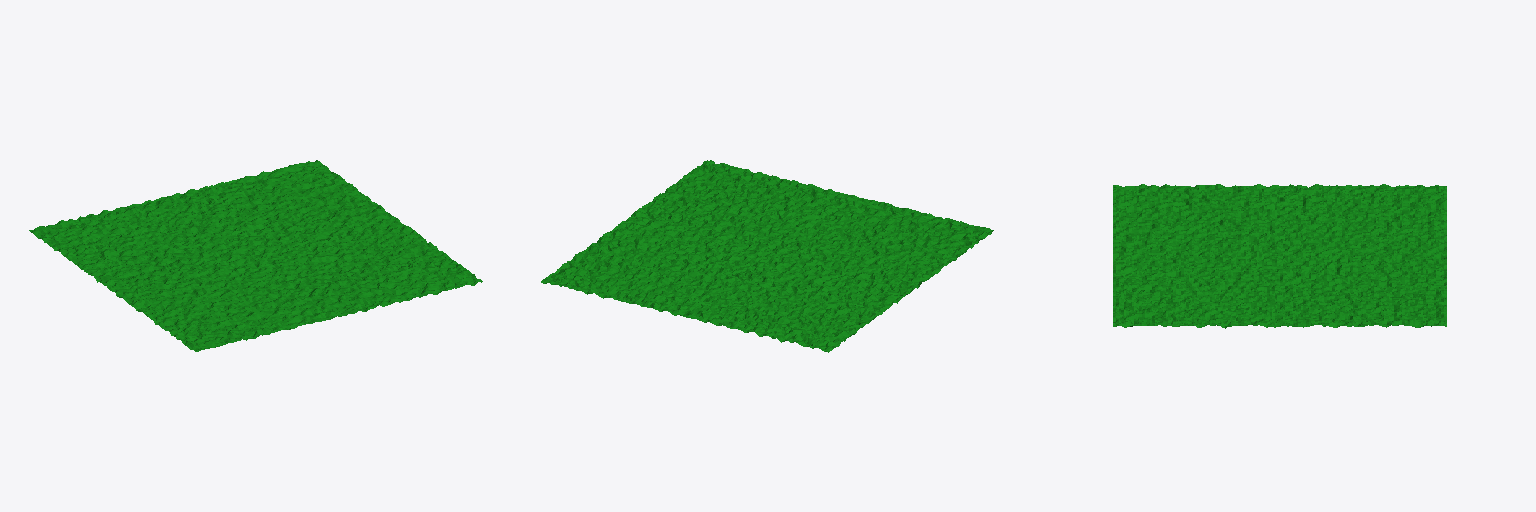
Rendered from Terrain.obj.
3 views of the same model, side by side, from view 1: azimuth 30°, elevation 25°; view 2: azimuth 150°, elevation 25°; view 3: azimuth 270°, elevation 25° (orthographic).
Parts seen in each view (by area): view 1: Plane; view 2: Plane; view 3: Plane.
Part boxes in pixels (x1,y1,x2,y2): Plane: (29,160,482,351); Plane: (541,160,993,352); Plane: (1113,184,1446,328).
Bounding box in the file's own units: 526 × 9.67 × 526.